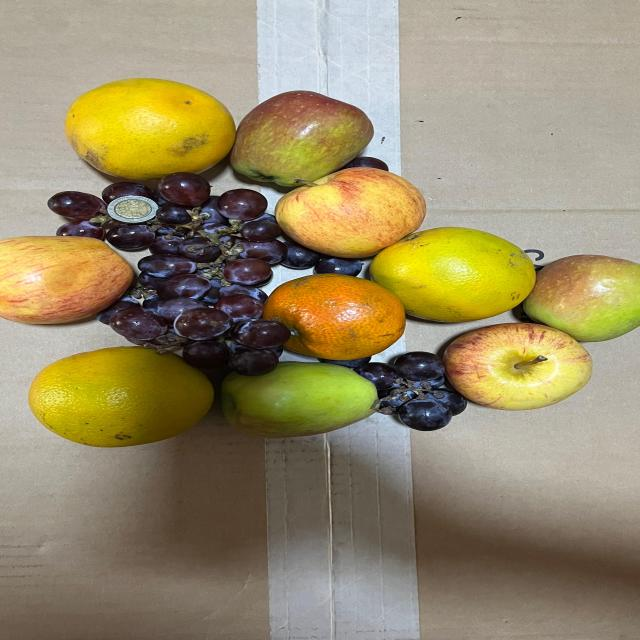moneda: (95, 190, 168, 229)
